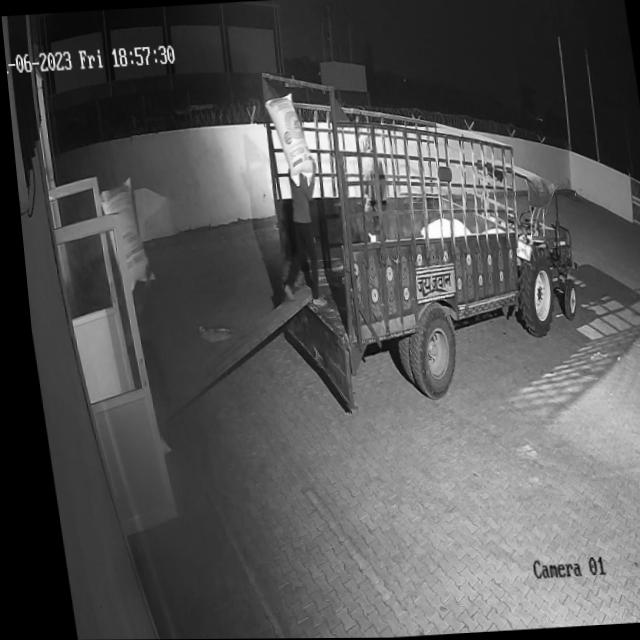sack: (93, 177, 149, 294), (262, 93, 311, 188)
